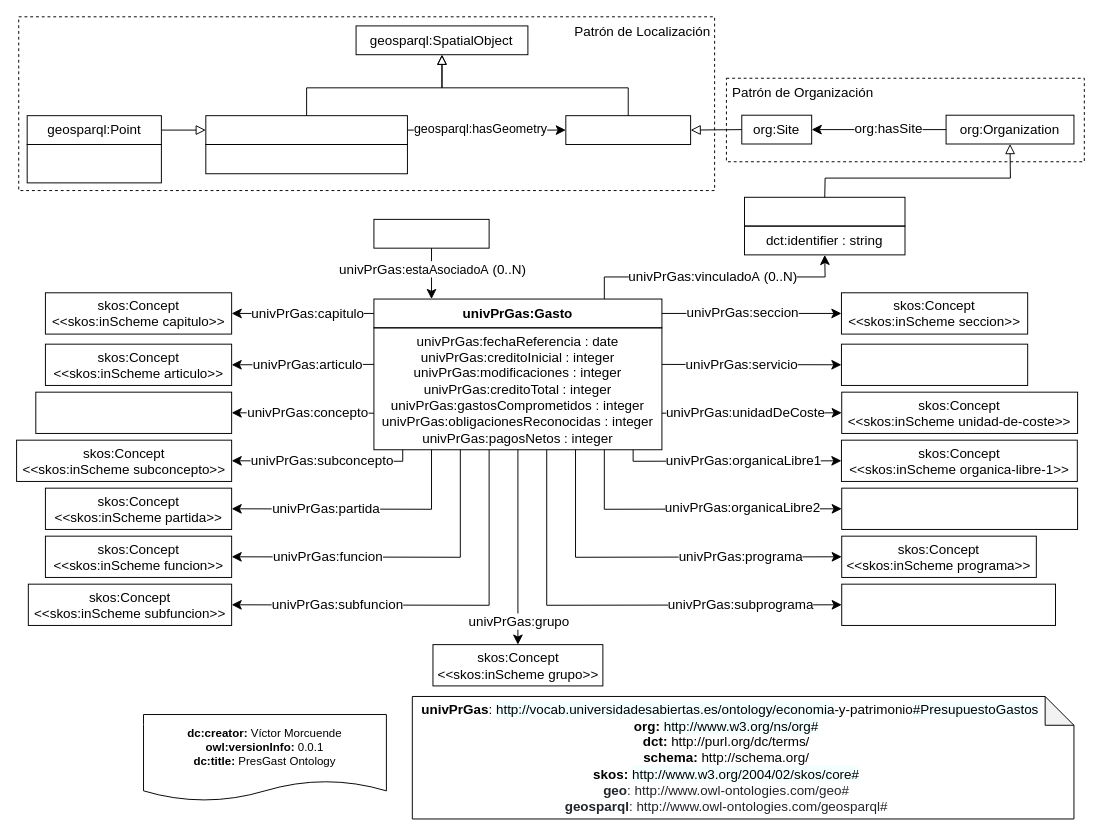
The diagram is 1102 pixels wide and 836 high, and some of its shapes have lost their labels. Here are the shapes that lost their labels. From the top down, the box of each, then its label:
(205, 115, 407, 144): geosparql:Geometry
(565, 115, 691, 144): geosparql:Feature
(26, 144, 161, 183): geo:lat : double geo:long : double
(205, 144, 407, 174): geosparql:asWKT : WKTLiteral
(744, 196, 905, 226): univPrGas :Universidad
(373, 218, 489, 248): univPr Gas :Anio
(840, 343, 1028, 385): skos:Concept <<skos:inScheme servicio>>
(35, 391, 232, 433): skos:Concept <<skos:inScheme concepto>>
(841, 487, 1078, 529): skos:Concept <<skos:inScheme organica-libre-2>>
(841, 583, 1056, 625): skos:Concept <<skos:inScheme subprograma>>
